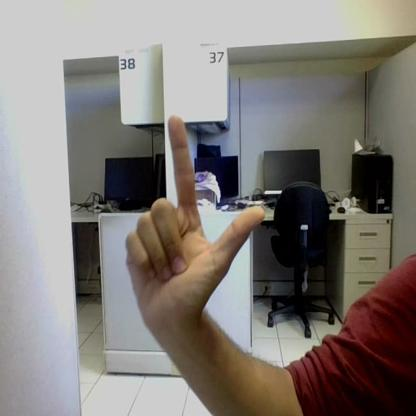L: (128, 116, 264, 320)
